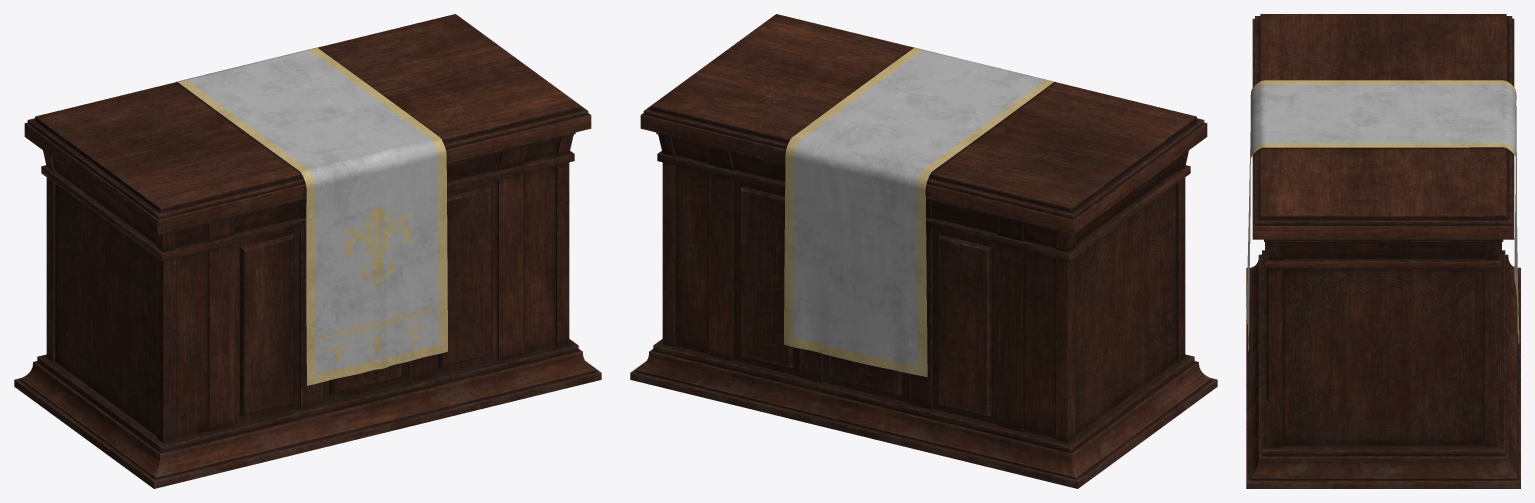
Rendered from altar.glb.
The picture shows the model from 3 angles, left to right: view 1: azimuth 30°, elevation 25°; view 2: azimuth 150°, elevation 25°; view 3: azimuth 270°, elevation 25°; orthographic projection.
Visible parts, largest first — view 1: simply_coll, simply_cloth; view 2: simply_coll, simply_cloth; view 3: simply_coll, simply_cloth.
Part boxes in pixels (x1,y1,x2,y2): simply_coll: (14, 14, 601, 488); simply_cloth: (175, 47, 447, 385); simply_coll: (630, 14, 1217, 488); simply_cloth: (784, 47, 1055, 377); simply_coll: (1246, 14, 1520, 488); simply_cloth: (1246, 80, 1519, 351).
Bounding box in the file's own units: 441 × 258 × 239.
Materials: 2 (2 with a texture image).
